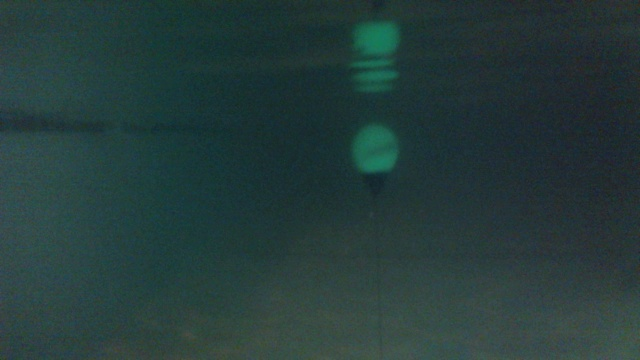buoy_green: (350, 120, 399, 195)
